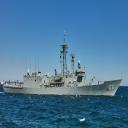Fragata: (2, 29, 124, 98)
